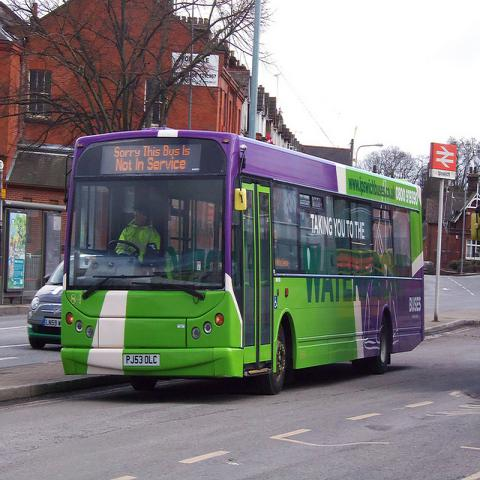bus: (60, 133, 426, 396)
car: (26, 262, 64, 353)
